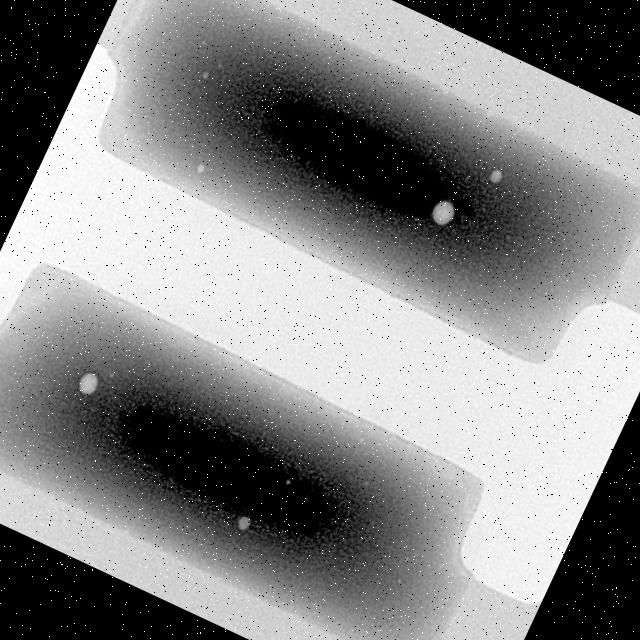chip: (101, 0, 640, 361), (0, 266, 478, 640)
void: (430, 200, 454, 225), (79, 372, 97, 395), (489, 170, 502, 183), (237, 517, 249, 529), (196, 163, 204, 173), (202, 70, 208, 78)
